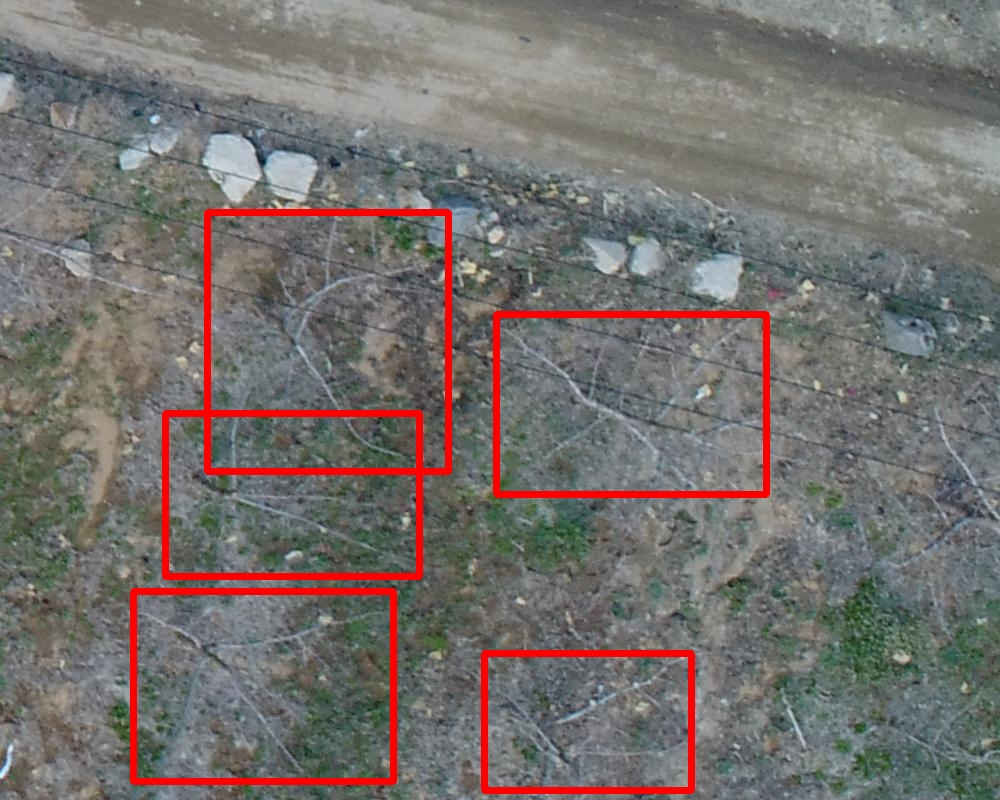apple: (207, 212, 448, 471), (133, 591, 393, 781), (496, 314, 766, 494), (165, 413, 419, 576), (484, 653, 691, 790)
